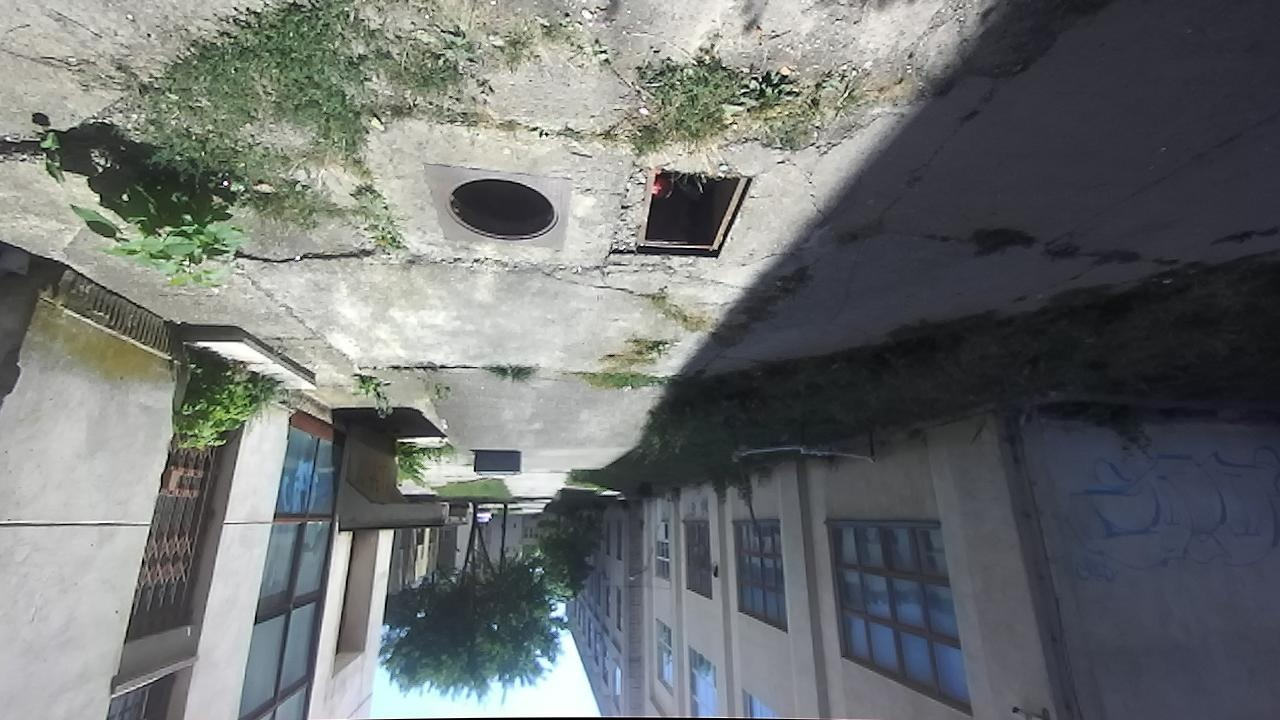drain: (609, 169, 746, 262), (442, 177, 563, 242)
